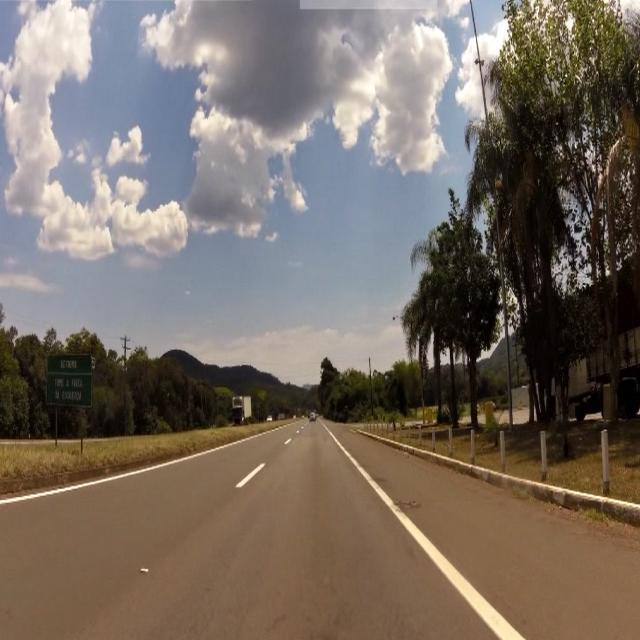I-4: (48, 356, 94, 408)
